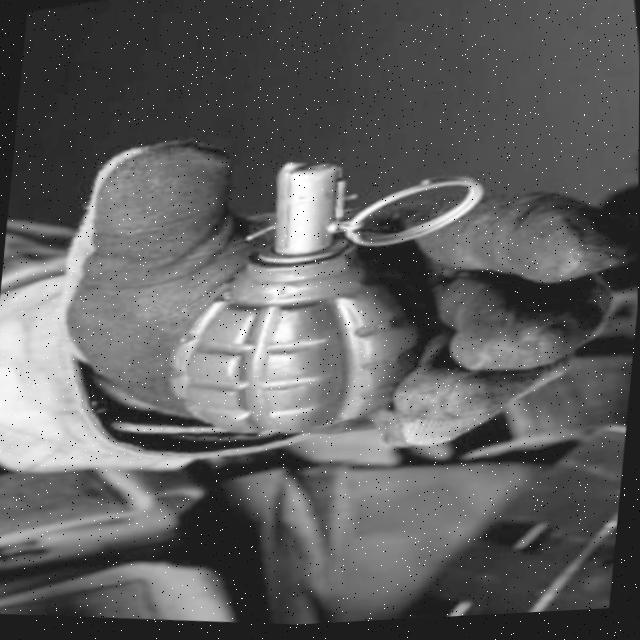grenade: (114, 109, 533, 489)
